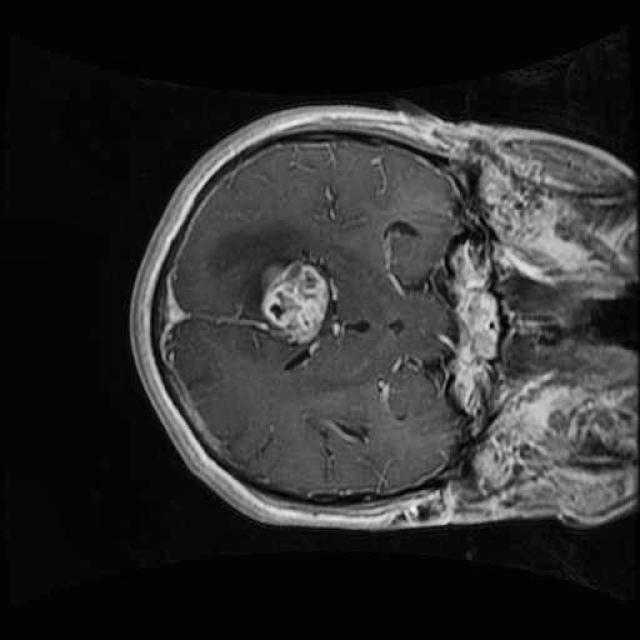Tumor: (252, 252, 338, 354)
